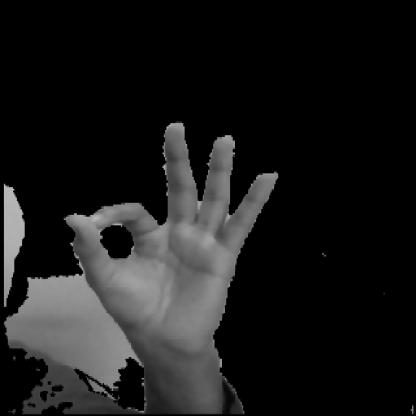ok: (53, 116, 284, 376)
